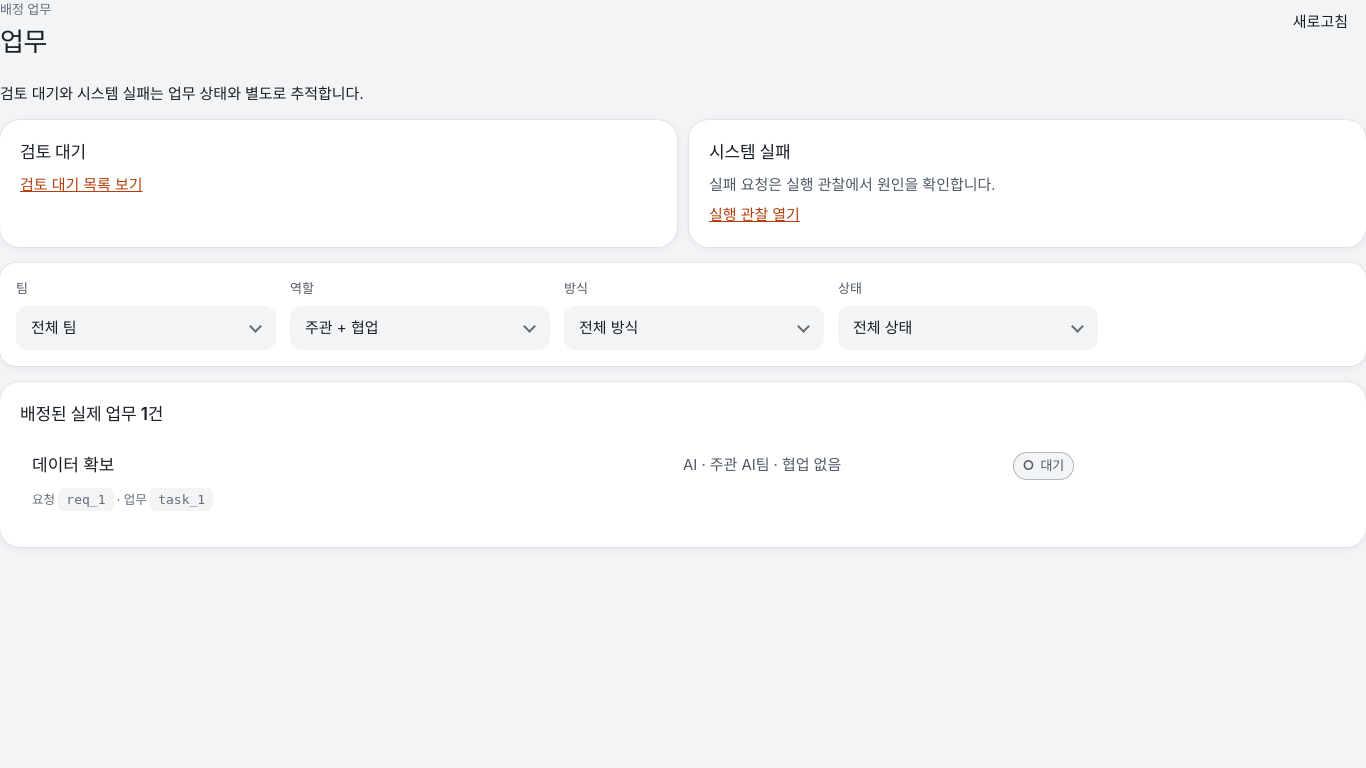
Scenario: Tasks block reasons (P4-01) › translates policy codes in the task premise shown in details
What coordinates should you click on to do the following:
click the button "데이터 확보 AI · 주관 AI팀 · 협업 없음 ○ 대기 요청 req_1 · 업무 task_1"
I would click on:
 (73, 465)
Its box is top-left (20, 436), bottom-right (1346, 527).
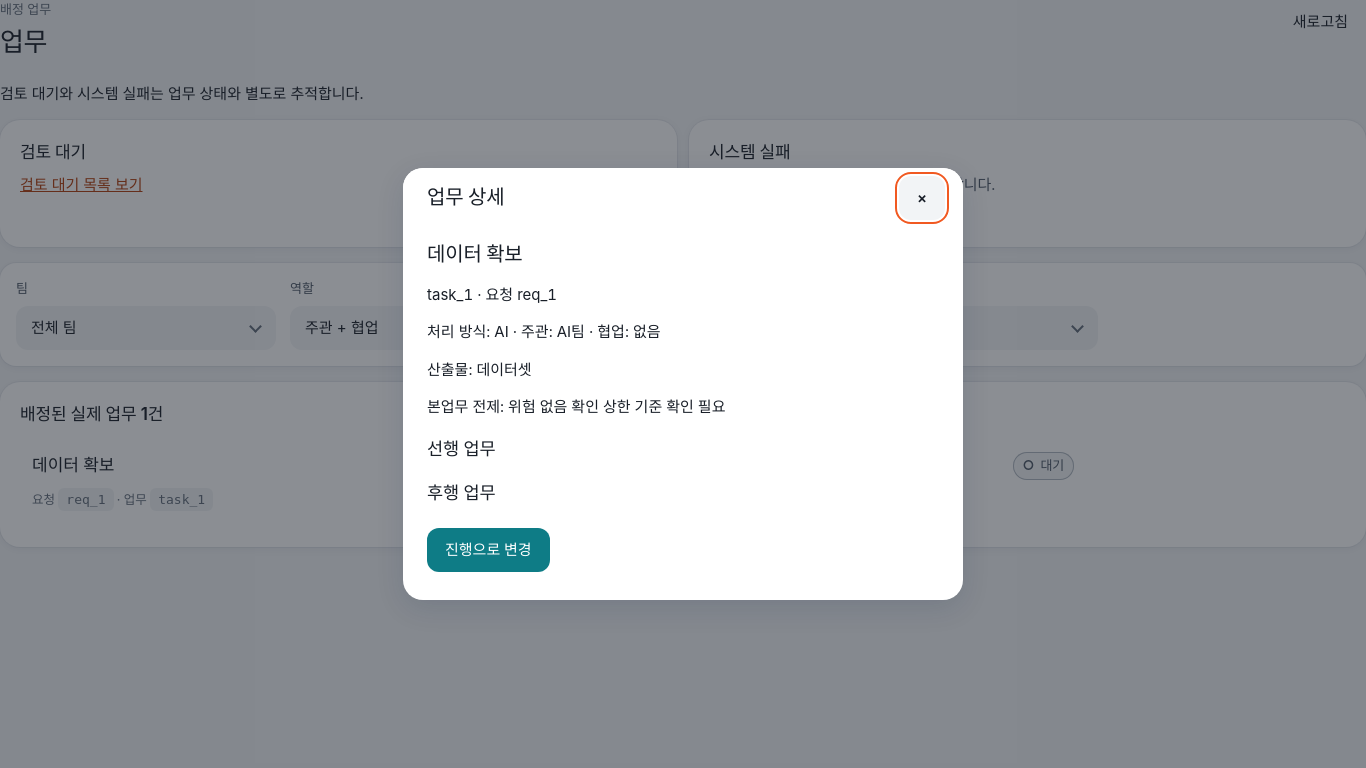
Expected: the dialog "업무 상세" does not show "risk_clear_max", top-left (403, 168), bottom-right (963, 600)
Result: the dialog "업무 상세" shows "위험 없음 확인 상한 기준 확인 필요" at top-left (508, 397), bottom-right (726, 416)
